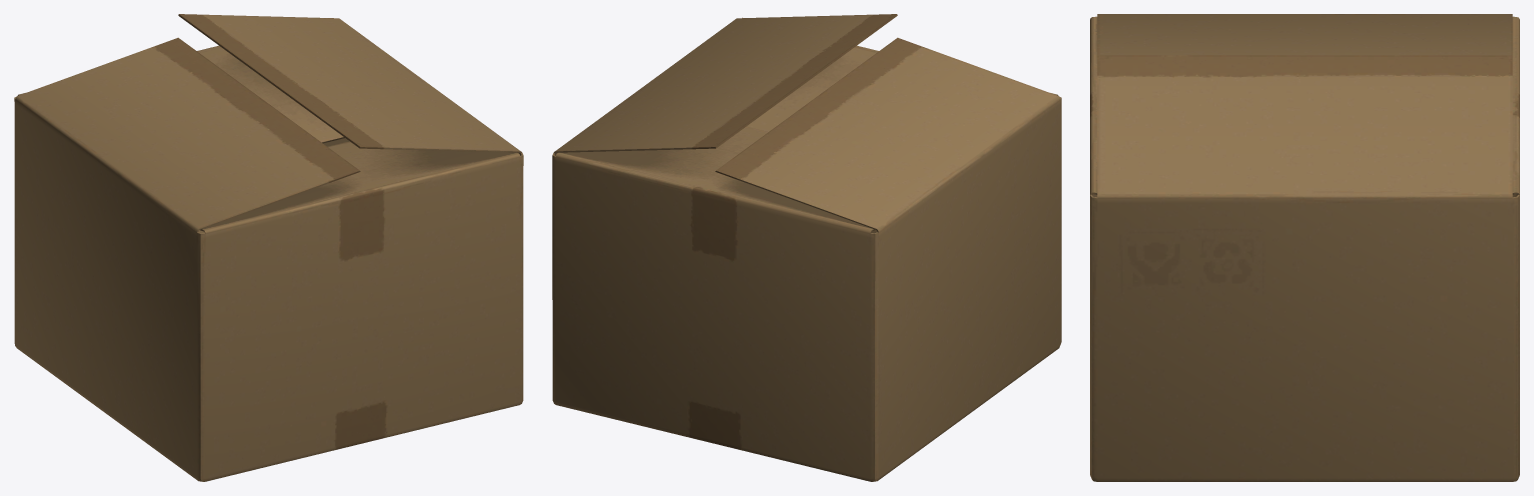
Rendered from SM_cardboard_box_02.glb.
3 renders of one model, left to right at view 1: azimuth 30°, elevation 25°; view 2: azimuth 150°, elevation 25°; view 3: azimuth 270°, elevation 25°, orthographic. The views are drawn at different scales.
Parts seen in each view (by area): view 1: SM_cardboard_box_02; view 2: SM_cardboard_box_02; view 3: SM_cardboard_box_02.
Boxes of the visible parts, x1,y1,x2,y2 form: SM_cardboard_box_02: (14, 14, 523, 481); SM_cardboard_box_02: (552, 14, 1061, 481); SM_cardboard_box_02: (1090, 14, 1519, 481).
Size of the model in its own units: 0.8079 by 0.7024 by 0.8079.
1 material, 1 textured.
